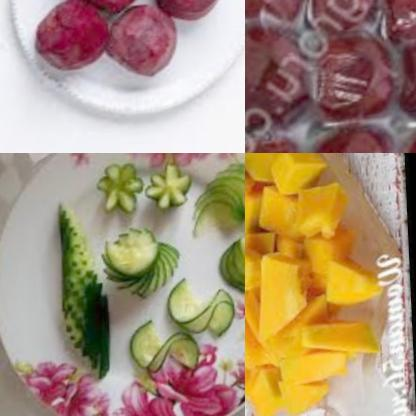beet: (245, 0, 416, 153), (32, 0, 110, 83), (103, 6, 177, 87), (145, 0, 231, 33)
cucumber: (45, 189, 124, 384), (96, 216, 183, 312), (90, 153, 193, 234), (120, 318, 216, 395), (153, 283, 239, 346), (184, 162, 245, 236), (203, 229, 245, 308)
pumpkin: (245, 153, 398, 416)
